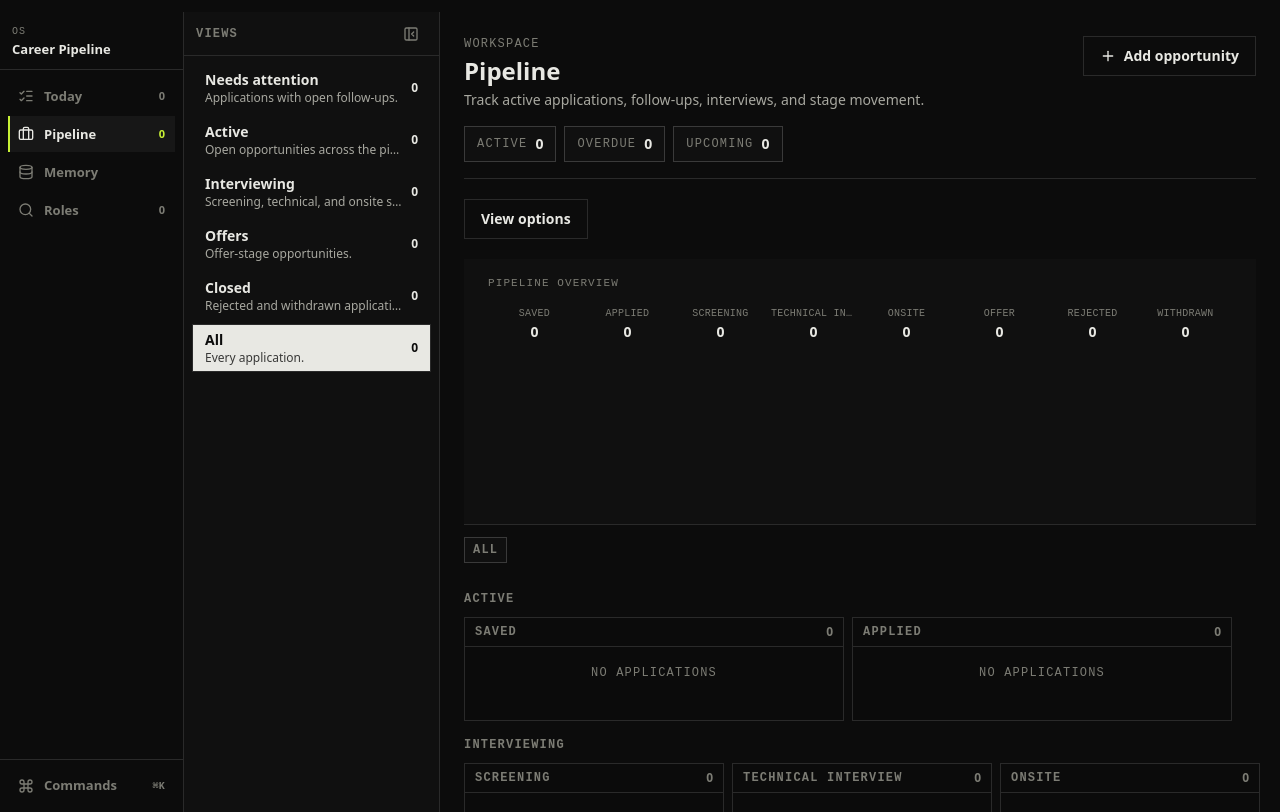
Test: Job application tracker shell › renders collapsible Pipeline saved views as secondary navigation
Expected: the navigation bar named "Global navigation" is shown, left=0, top=12, right=184, bottom=811
Expected: the navigation bar named "Pipeline saved views" is shown, left=184, top=56, right=439, bottom=380
Click the button named "Collapse secondary navigation" at (411, 34), box left=395, top=18, right=427, bottom=50
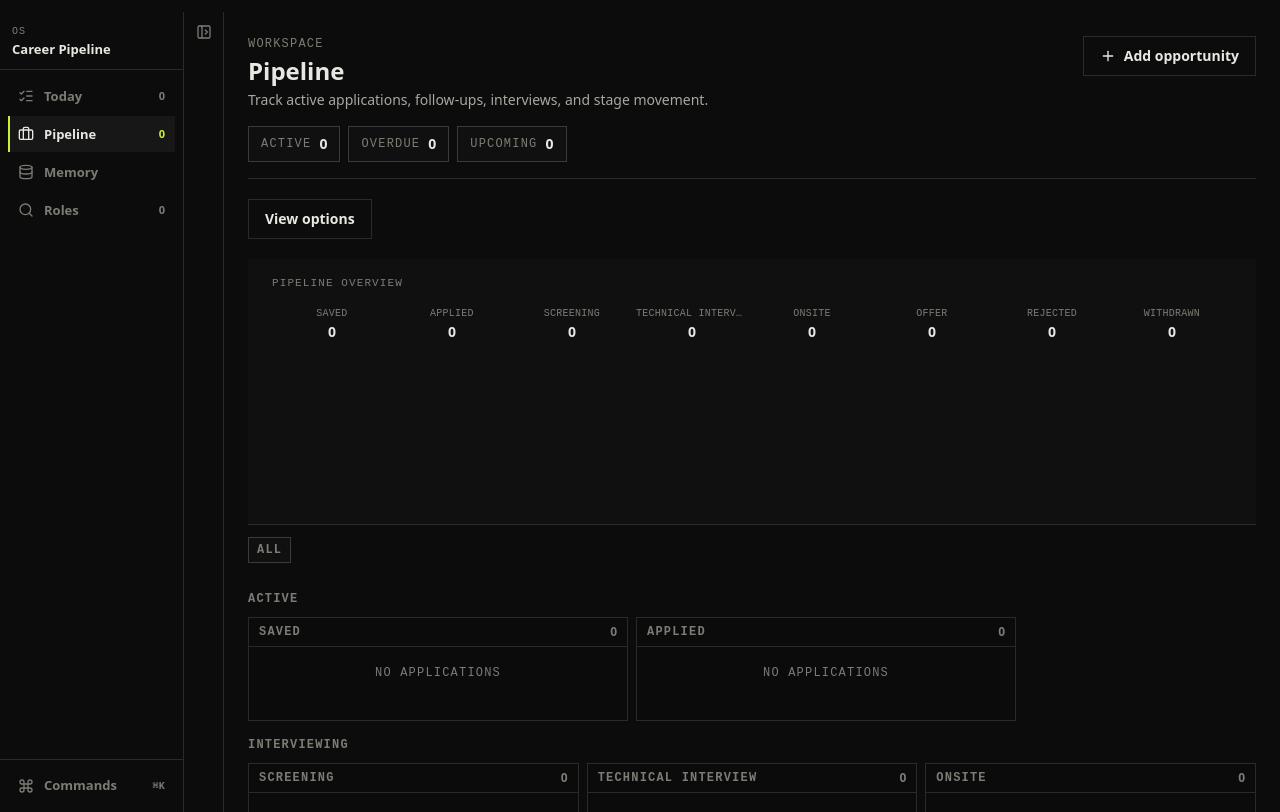
Click the button named "Expand secondary navigation" at (204, 32), box left=184, top=12, right=223, bottom=52
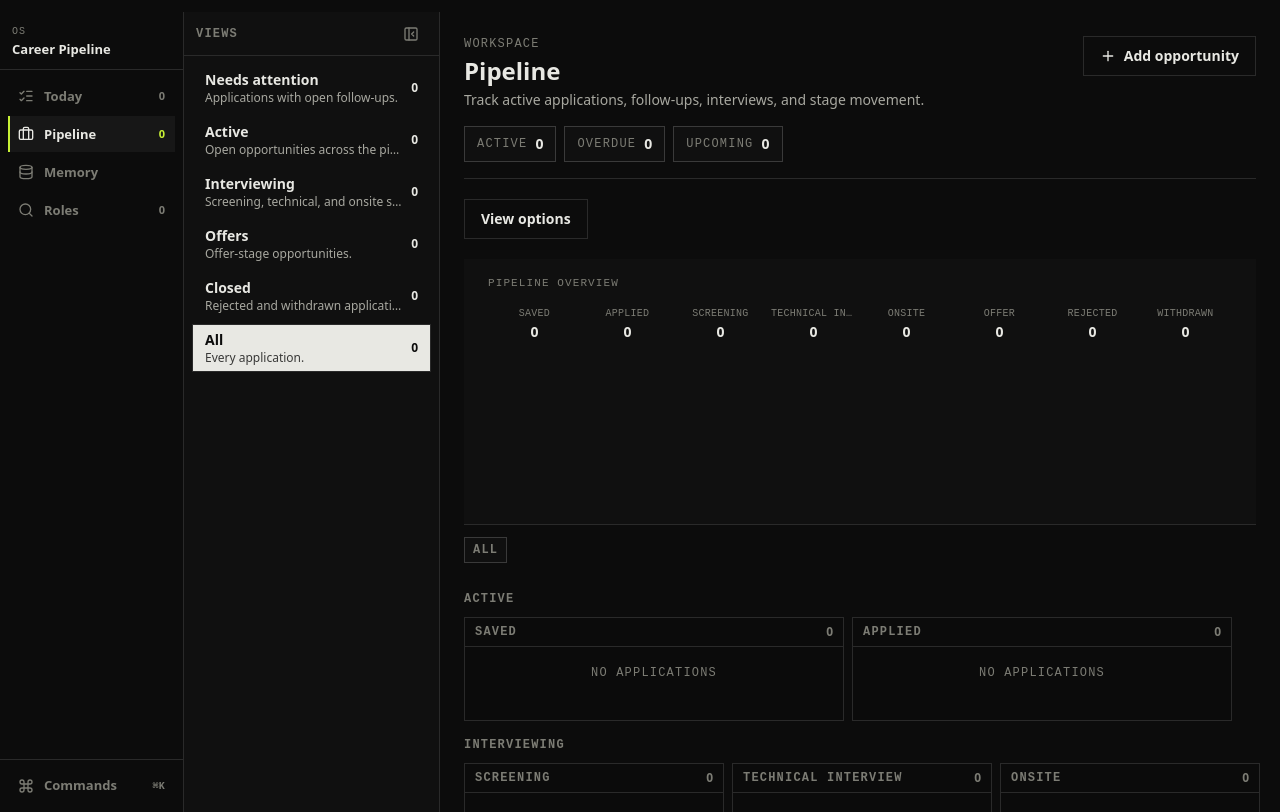
Expected: the navigation bar named "Pipeline saved views" is shown, left=184, top=56, right=439, bottom=380
